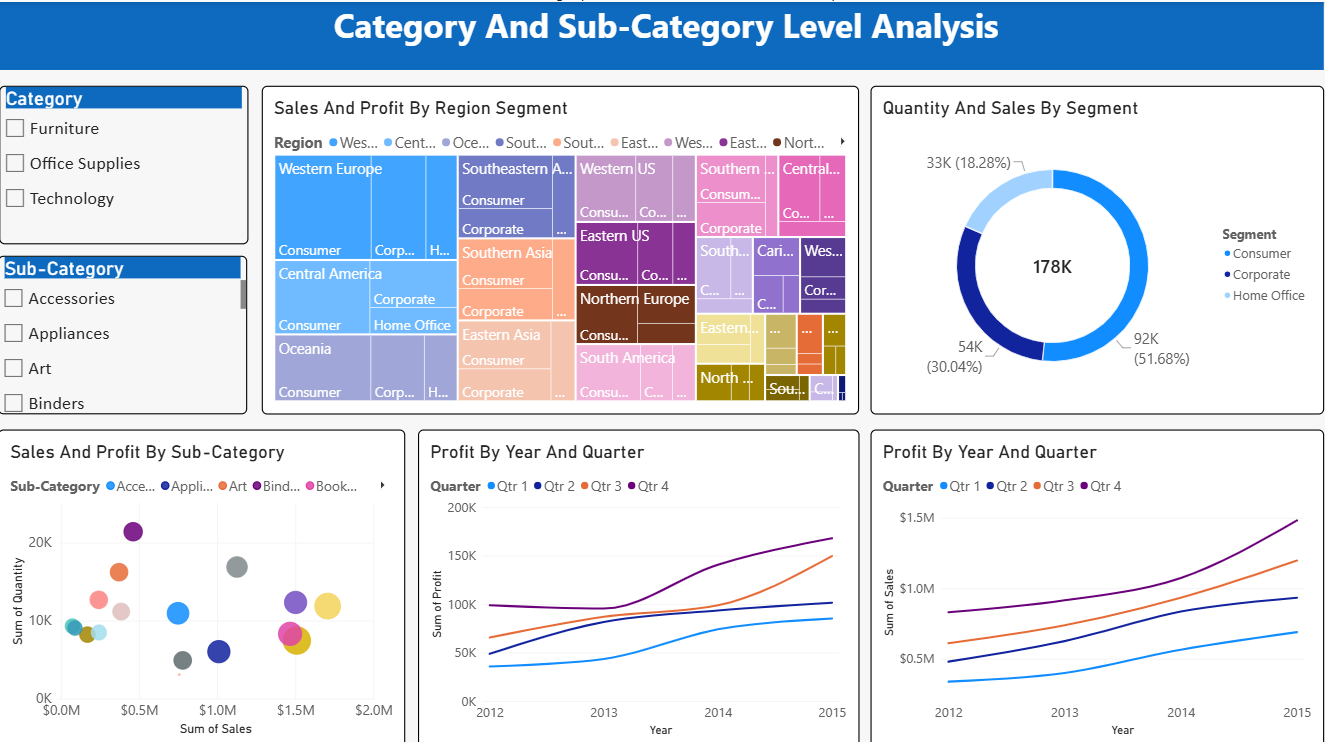

What the dashboard file says about the page in this screenshot:
{"tool":"powerbi","page":{"name":"Category And Sub-Category","canvas":[1920,1080],"ordinal":2},"visuals":[{"type":"textbox","box":[2.1,0,1917.9,98.1],"z":0},{"type":"slicer","fields":{"Values":["Orders.Category"]},"box":[2.1,121,361,229.6],"z":1},{"type":"slicer","fields":{"Values":["Orders.Sub-Category"]},"box":[0,367.3,361,229.6],"z":2},{"type":"treemap","title":"Sales And Profit By Region Segment","fields":{"Details":["Orders.Segment"],"Group":["Orders.Region"],"Values":["Sum(Orders.Sales)"]},"box":[381.8,121.2,865,475.9],"z":3},{"type":"donutChart","title":"Quantity And Sales By Segment","fields":{"Category":["Orders.Segment"],"Y":["Sum(Orders.Quantity)"]},"box":[1263.1,121.2,656.9,475.9],"z":4},{"type":"scatterChart","title":"Sales And Profit By Sub-Category ","fields":{"Series":["Orders.Sub-Category"],"Size":["Sum(Orders.Profit)"],"X":["Sum(Orders.Sales)"],"Y":["Sum(Orders.Quantity)"]},"box":[0,618.9,589.9,461.5],"z":5},{"type":"lineChart","title":"Profit By Year And Quarter","fields":{"Category":["Orders.Year"],"Series":["Orders.Quarter"],"Y":["Sum(Orders.Profit)"]},"box":[608,618.9,638.8,461.5],"z":6},{"type":"lineChart","title":"Profit By Year And Quarter","fields":{"Category":["Orders.Year"],"Series":["Orders.Quarter"],"Y":["Sum(Orders.Sales)"]},"box":[1263.1,618.9,656.9,461.5],"z":7}]}

Visuals, with their boxes in screenshot pixels (x1, y1, x2, y2), scaled from the page's 1920x1080 canvas onto the 1325x742 screenshot:
textbox: (left=1, top=0, right=1324, bottom=67)
slicer - Orders.Category: (left=1, top=83, right=251, bottom=241)
slicer - Orders.Sub-Category: (left=0, top=252, right=249, bottom=410)
"Sales And Profit By Region Segment" treemap: (left=263, top=83, right=860, bottom=410)
"Quantity And Sales By Segment" donutChart: (left=872, top=83, right=1324, bottom=410)
"Sales And Profit By Sub-Category " scatterChart: (left=0, top=425, right=407, bottom=741)
"Profit By Year And Quarter" lineChart: (left=420, top=425, right=860, bottom=741)
"Profit By Year And Quarter" lineChart: (left=872, top=425, right=1324, bottom=741)
